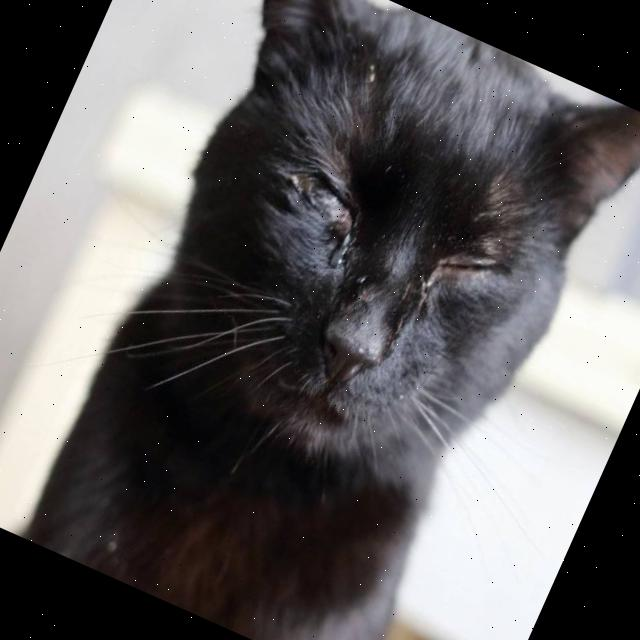cat-eye: (397, 198, 538, 350), (258, 142, 398, 288)
